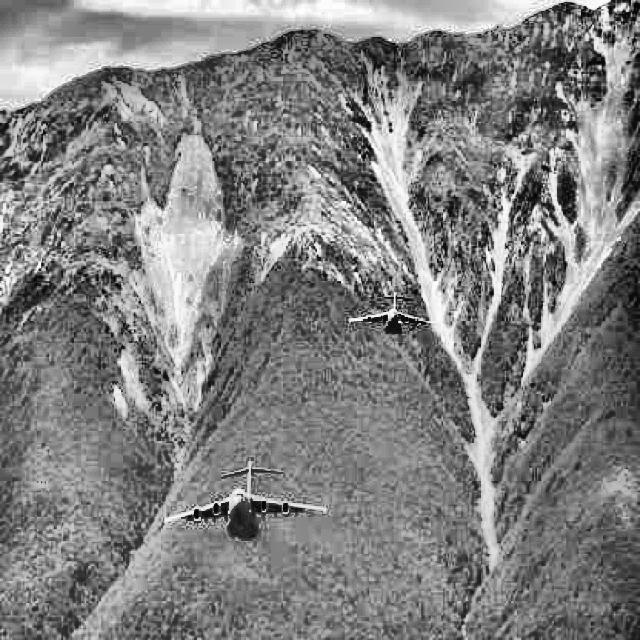C17: (163, 460, 328, 540), (348, 291, 438, 335)
